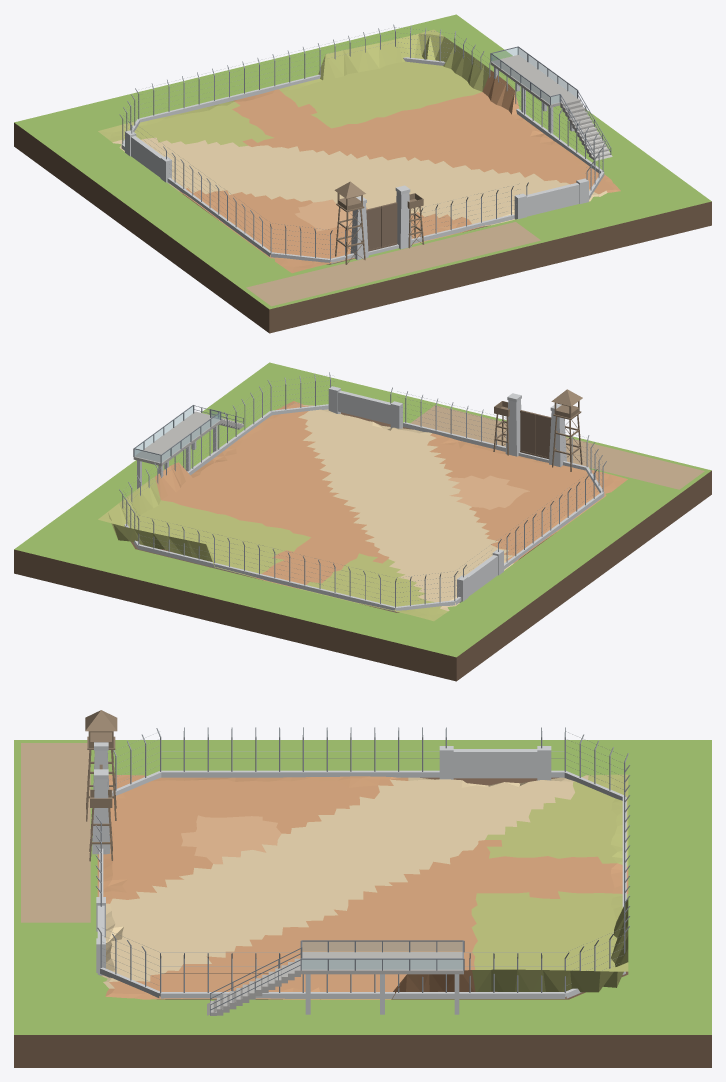
Rendered from enclosure_clean_60x60.glb.
3 renders of one model, top to bottom at view 1: azimuth 30°, elevation 25°; view 2: azimuth 150°, elevation 25°; view 3: azimuth 270°, elevation 25°, orthographic. The views are drawn at different scales.
Parts seen in each view (by area): view 1: Enclosure_Terrain, Outer_Lawn_Border, Diorama_Base_Sides, Access_Road, Fence_Foundation, Fence_Posts, Floodgate_Portals, Deck_Slab, Main_Gate_Pylons, Main_Gate_Doors, Watchtower_Main, Fence_Rails (+3 smaller); view 2: Enclosure_Terrain, Outer_Lawn_Border, Diorama_Base_Sides, Access_Road, Fence_Foundation, Fence_Posts, Floodgate_Portals, Deck_Slab, Main_Gate_Pylons, Main_Gate_Doors, Fence_Rails, Watchtower_Main (+4 smaller); view 3: Enclosure_Terrain, Outer_Lawn_Border, Diorama_Base_Sides, Access_Road, Fence_Foundation, Floodgate_Portals, Fence_Posts, Deck_Slab, Deck_Rail_Glass, Fence_Rails, Deck_Stairs, Main_Gate_Pylons (+5 smaller).
Boxes of the visible parts, box(x1,y1,x2,y2) form: Enclosure_Terrain: box(98, 29, 620, 273); Outer_Lawn_Border: box(14, 14, 711, 309); Diorama_Base_Sides: box(14, 122, 711, 333); Access_Road: box(246, 222, 540, 306); Fence_Foundation: box(121, 57, 604, 263); Fence_Posts: box(119, 24, 606, 259); Floodgate_Portals: box(125, 130, 588, 219); Deck_Slab: box(490, 55, 576, 107); Main_Gate_Pylons: box(350, 185, 411, 259); Main_Gate_Doors: box(366, 202, 397, 251); Watchtower_Main: box(334, 181, 365, 264); Fence_Rails: box(123, 27, 602, 254); Enclosure_Terrain: box(98, 401, 627, 621); Outer_Lawn_Border: box(14, 362, 711, 657); Diorama_Base_Sides: box(14, 412, 711, 681); Access_Road: box(410, 405, 704, 489); Fence_Foundation: box(124, 404, 604, 611); Fence_Posts: box(119, 372, 606, 607); Floodgate_Portals: box(328, 386, 503, 602); Deck_Slab: box(133, 413, 221, 466); Main_Gate_Pylons: box(505, 393, 566, 466); Main_Gate_Doors: box(520, 410, 551, 459); Fence_Rails: box(123, 375, 602, 602); Watchtower_Main: box(551, 389, 582, 471); Enclosure_Terrain: box(97, 774, 628, 999); Outer_Lawn_Border: box(14, 740, 711, 1034); Diorama_Base_Sides: box(14, 777, 711, 1067); Access_Road: box(21, 743, 90, 922); Fence_Foundation: box(99, 770, 626, 998); Floodgate_Portals: box(96, 746, 551, 975); Fence_Posts: box(95, 727, 630, 992); Deck_Slab: box(301, 952, 463, 974); Deck_Rail_Glass: box(302, 942, 463, 969); Fence_Rails: box(102, 731, 623, 985); Deck_Stairs: box(210, 958, 300, 1015); Main_Gate_Pylons: box(92, 742, 110, 854).
Bounding box in the file's own units: 60 × 13.1 × 60.
